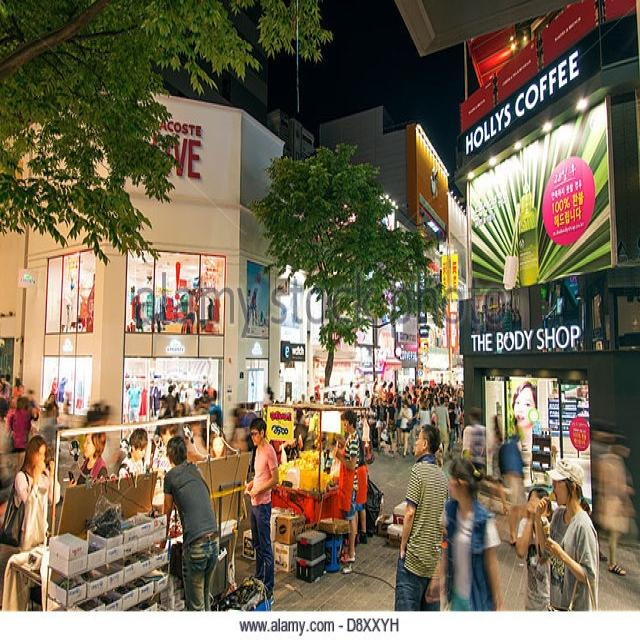body: (155, 432, 221, 634), (435, 451, 504, 639), (533, 455, 601, 639), (343, 364, 467, 455), (49, 256, 118, 415), (394, 422, 450, 612), (242, 415, 282, 607), (592, 430, 636, 577), (13, 432, 62, 553), (122, 375, 222, 430), (513, 485, 554, 613), (331, 406, 360, 566), (131, 286, 220, 335), (496, 428, 530, 547), (150, 416, 183, 538), (0, 361, 50, 432), (485, 410, 512, 516), (506, 378, 539, 462), (116, 425, 149, 491), (261, 385, 343, 411), (76, 424, 109, 487), (472, 299, 521, 341), (462, 402, 487, 481), (231, 398, 259, 462), (354, 438, 368, 544), (434, 395, 451, 460), (397, 396, 413, 456), (446, 401, 457, 461), (246, 288, 261, 329), (541, 298, 554, 334), (429, 166, 440, 196), (210, 410, 222, 436)
